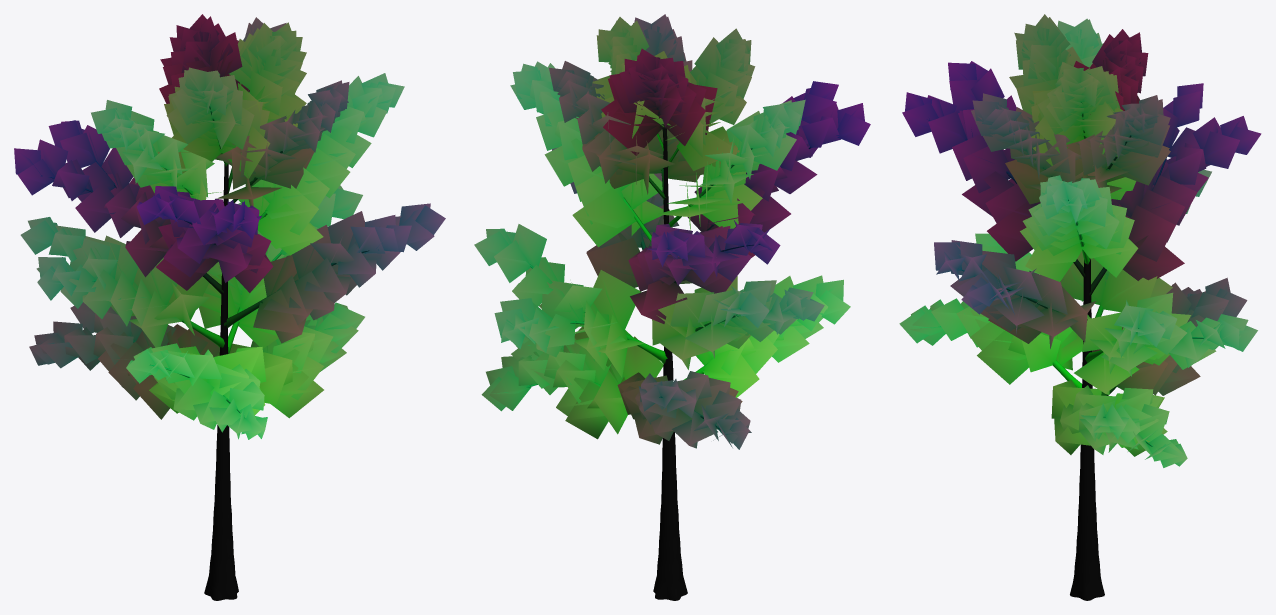
File: tree test.fbx
3 views of the same model, side by side, from view 1: azimuth 30°, elevation 25°; view 2: azimuth 150°, elevation 25°; view 3: azimuth 270°, elevation 25° (orthographic).
Visible parts, largest first — view 1: fern01_1, bark03_0; view 2: fern01_1, bark03_0; view 3: fern01_1, bark03_0.
Boxes of the visible parts, x1,y1,x2,y2 form: fern01_1: [14, 14, 445, 439]; bark03_0: [49, 106, 369, 600]; fern01_1: [474, 14, 870, 449]; bark03_0: [526, 128, 810, 600]; fern01_1: [899, 14, 1261, 467]; bark03_0: [938, 102, 1204, 600].
Size of the model in its own units: 362 by 578 by 340.
